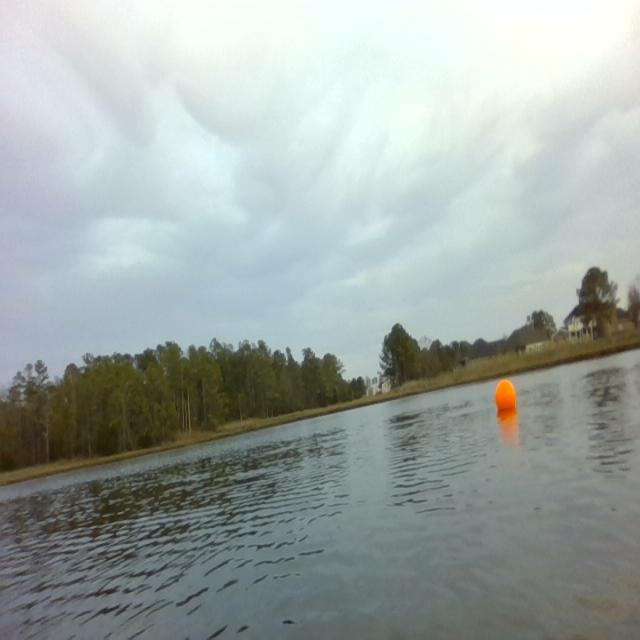Buoy: (492, 376, 518, 416)
